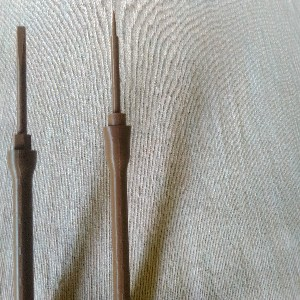obeng: (6, 25, 37, 300)
solder: (101, 9, 133, 300)
